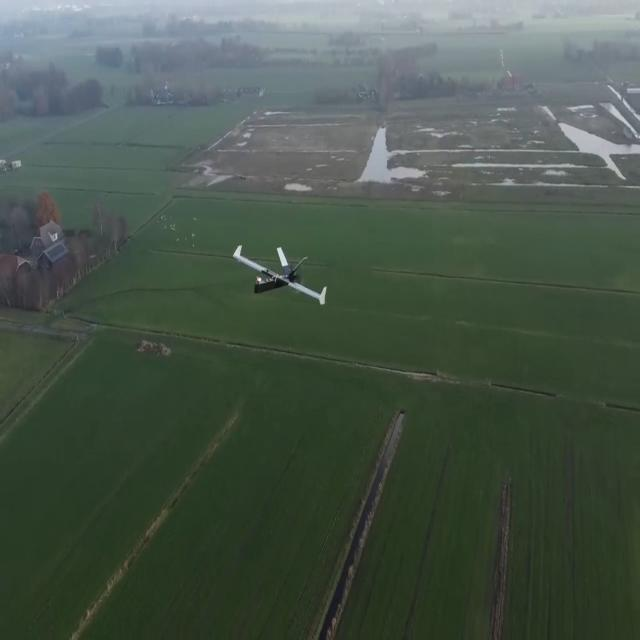iha: (263, 270, 296, 275)
